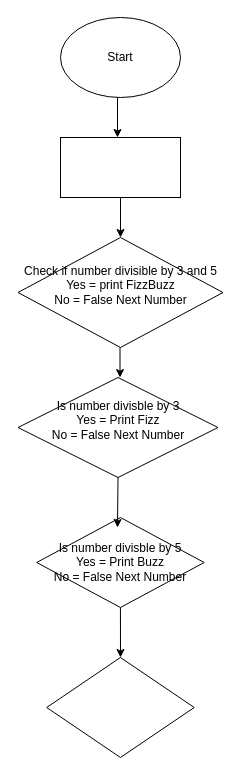
The diagram is 240 pixels wide and 775 high, and some of its shapes have lost their labels. The shapes that lost their labels are listed below. From the top down, each one's centre as x and y in pixels, then its label:
At point 120,167: "Intial Loop numbers 1-25".
At point 120,707: "End loop If number greater than 25 repeat If number equal to 25 End Program".
